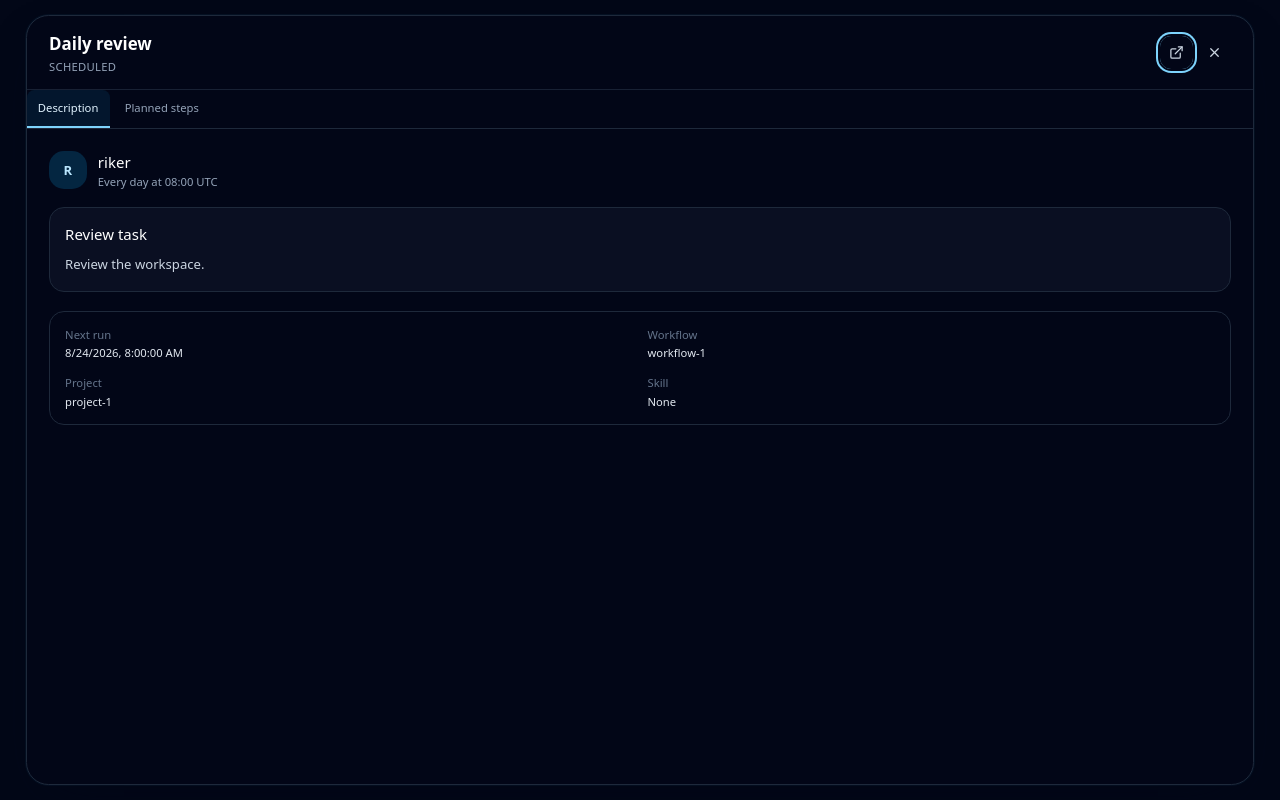
Test: ScheduleDashboardModal › retries a transient workflow failure while the modal remains open
Click the tab with test id "dashboard-schedule-modal-tab-steps" at (162, 109), box [113,90,210,128]
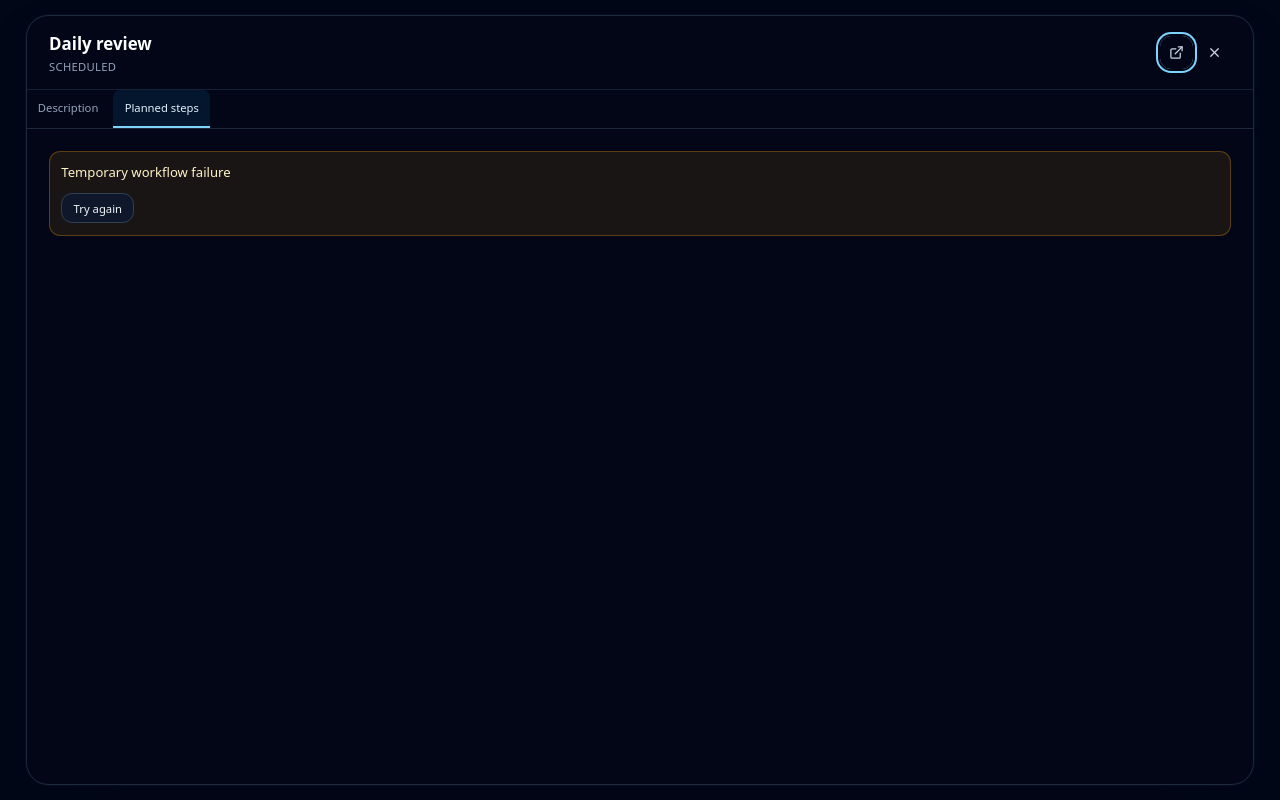
expect the message shows "Temporary workflow failure": met, box [61,163,230,181]
Click the button "Try again" at (98, 208), box [61,193,134,223]
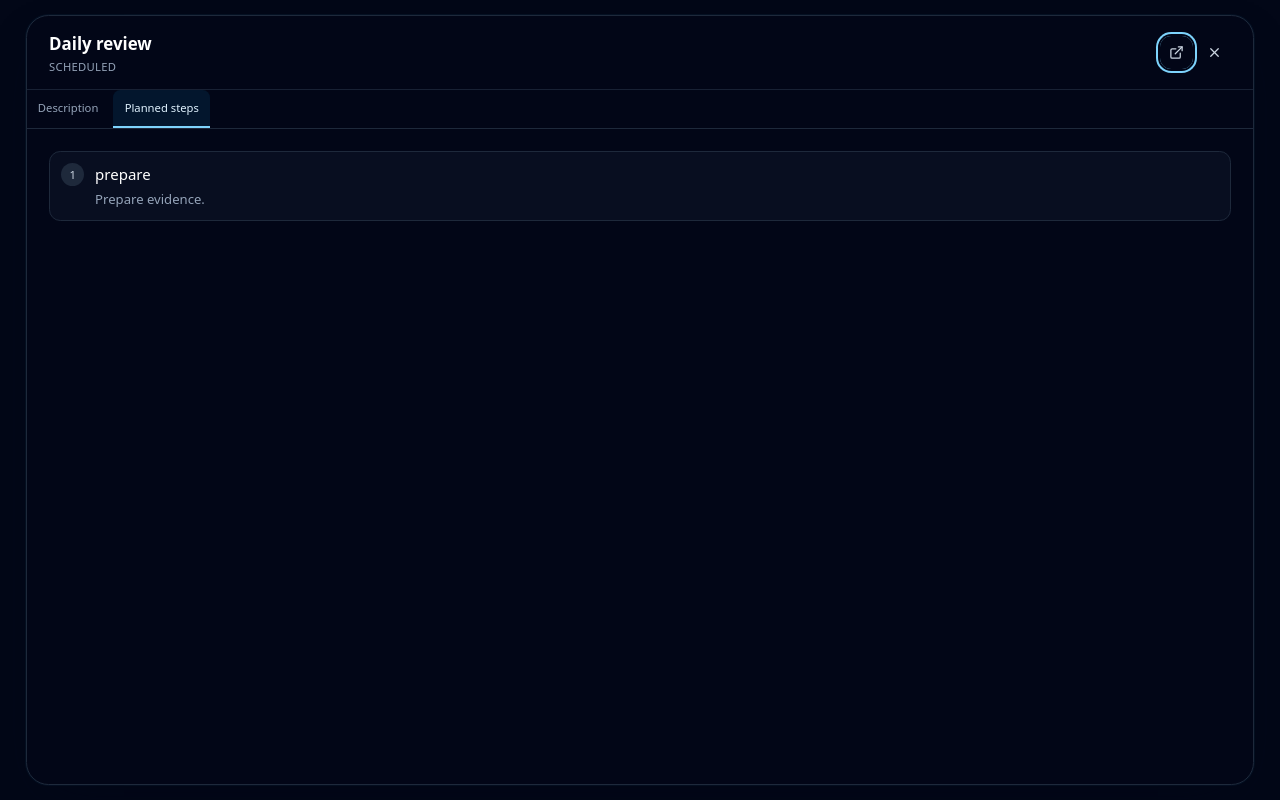
expect the list with test id "dashboard-schedule-planned-steps" shows "Prepare evidence.": met, box [95,190,205,208]
